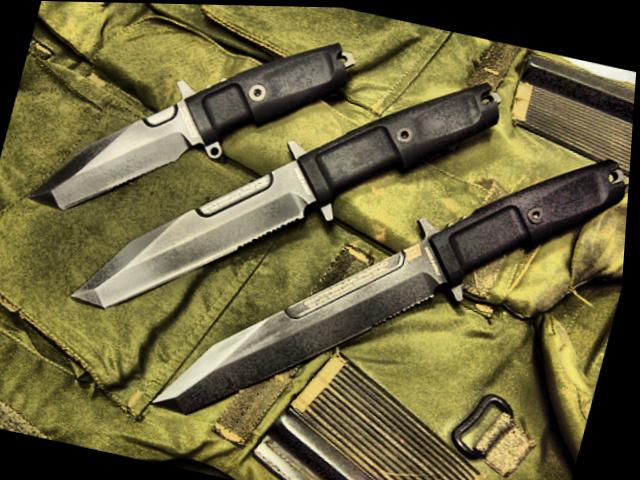knife: (149, 199, 451, 461), (63, 123, 322, 346), (17, 66, 206, 238)
